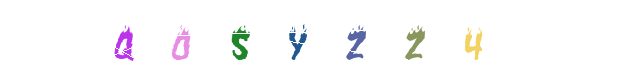4: (433, 0, 513, 80)
O: (178, 0, 258, 80)
Q: (84, 0, 164, 80)
S: (200, 0, 280, 80)
Y: (273, 0, 353, 80)
Z: (290, 0, 370, 80), (347, 0, 427, 80)
